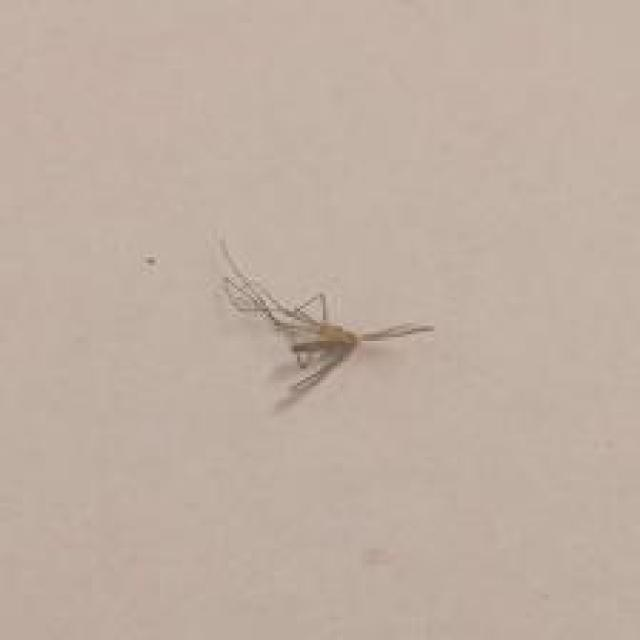Culex: (215, 234, 434, 403)
